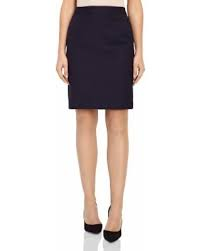F_tailored skirt: (55, 1, 139, 115)
